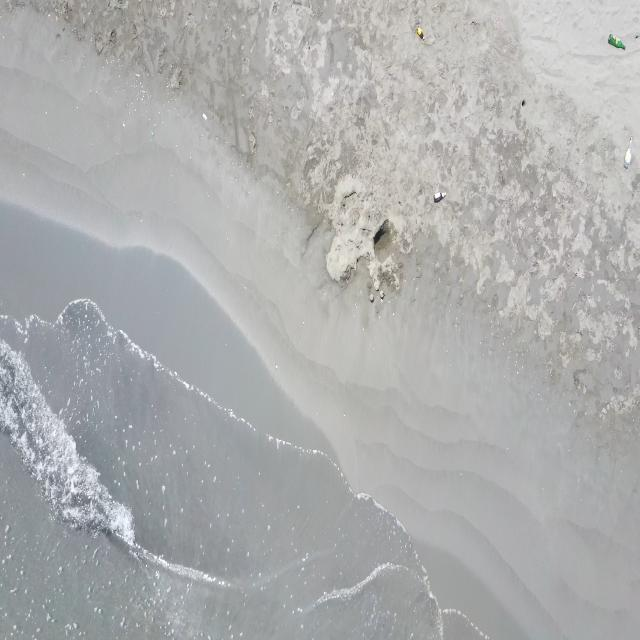glass: (623, 136, 634, 169), (608, 34, 626, 50), (433, 191, 447, 203), (416, 25, 425, 41)
